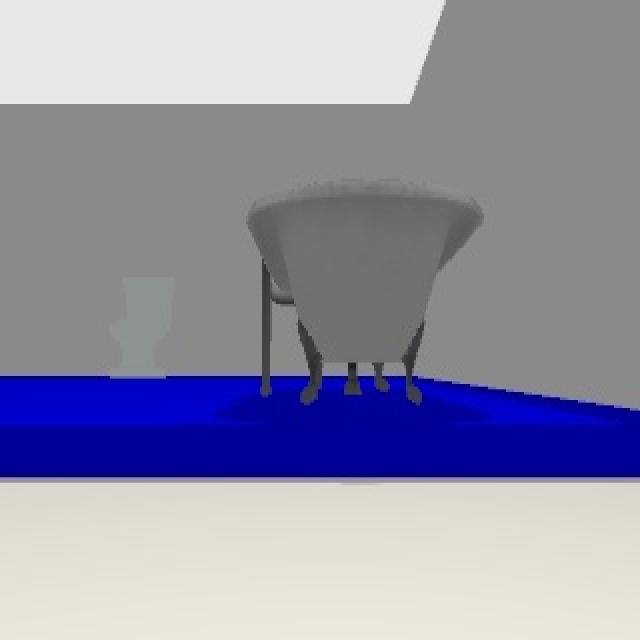bathtub: (246, 179, 486, 405)
